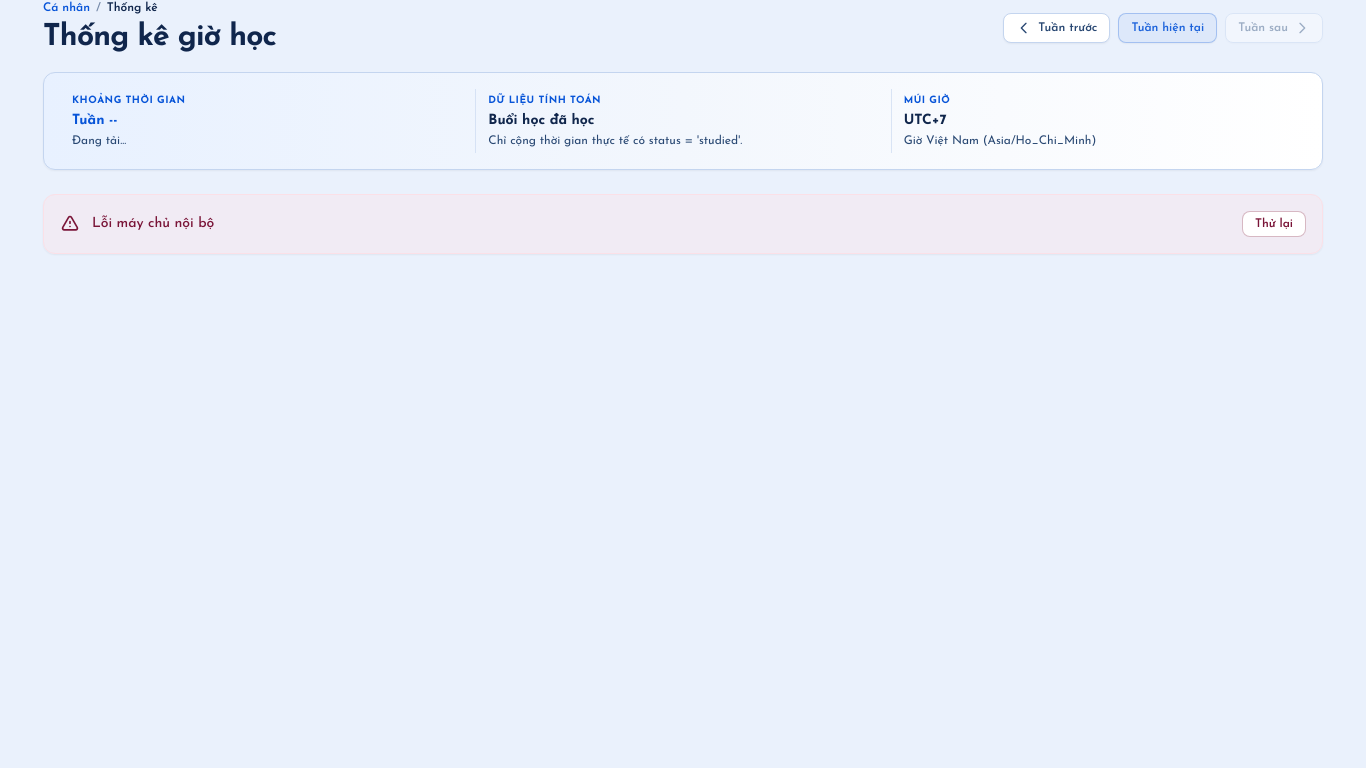
Test: StatsPage — Giao diện Thống kê học tập tuần TV5 (Issue #143) › TC-UI-08: Ẩn error banner cũ khi đang loading chuyển sang tuần khác (W-03)
The width and height of the screenshot is (1366, 768).
Expected: the message "Lỗi máy chủ nội bộ Thử lại" is shown, [43,194,1323,254]
Click the button with aria-label "Xem tuần trước". click: click(1057, 28)
box: [1003,13,1110,43]
(page scrolled)
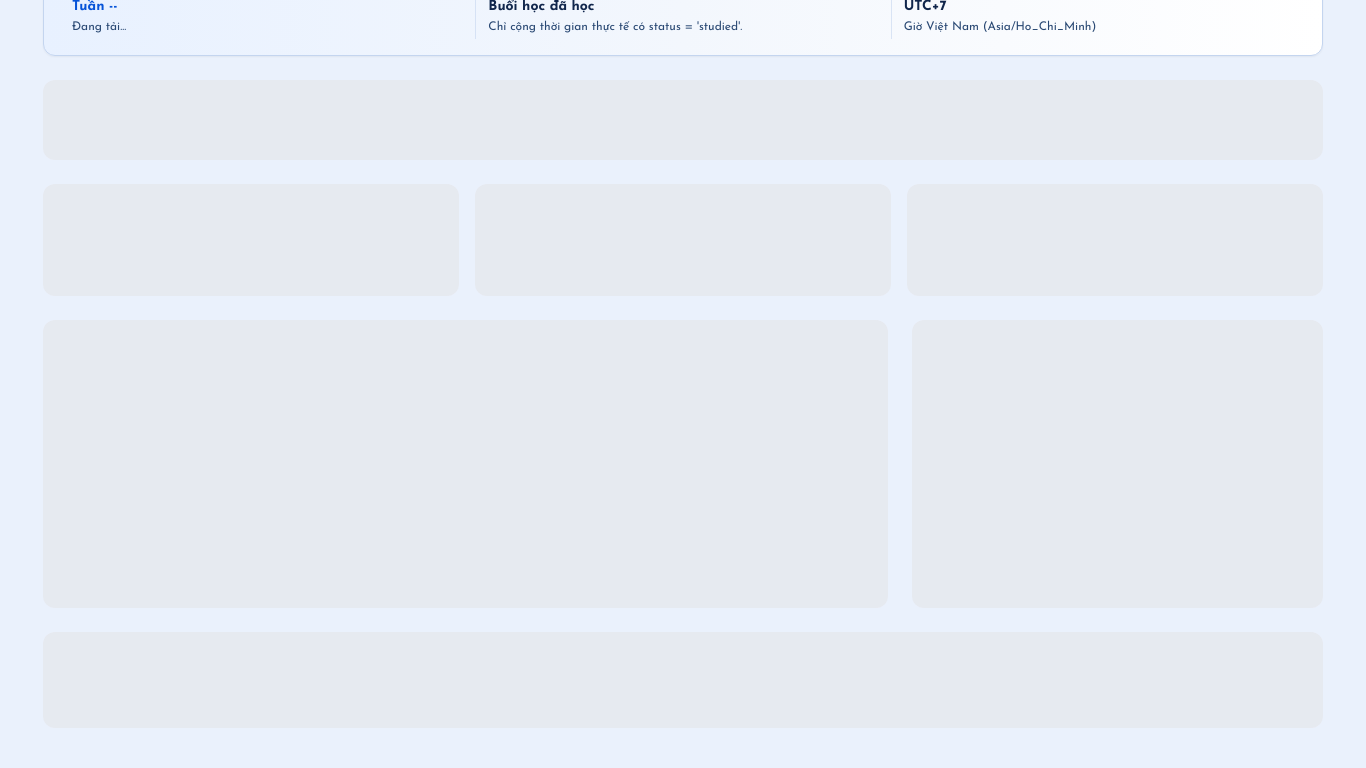
Expected: the message "Lỗi máy chủ nội bộ Thử lại" is gone
